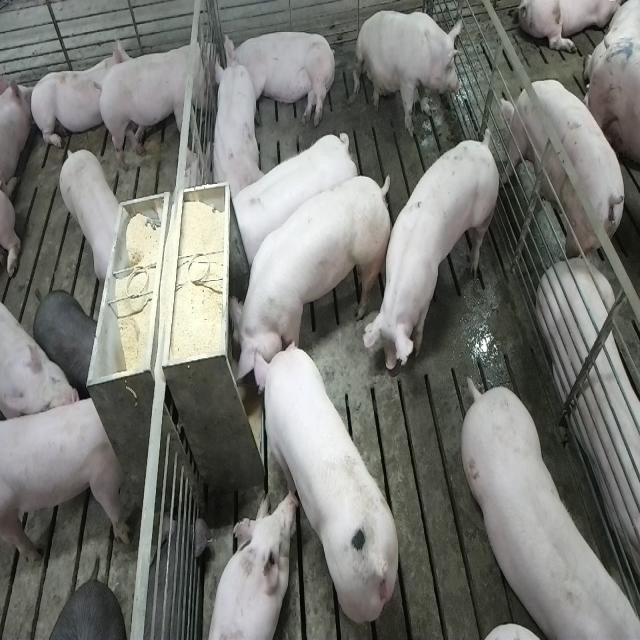Feeding: (250, 338, 400, 624), (223, 173, 388, 398)
Lateral_lying: (539, 256, 640, 602), (222, 29, 338, 129)
Sitting: (354, 8, 464, 138)
Standing: (458, 381, 634, 640), (368, 123, 504, 375), (504, 79, 632, 265), (1, 390, 130, 568), (230, 127, 358, 266), (97, 28, 218, 172), (56, 144, 126, 286), (33, 286, 99, 395)
Sternal_lying: (205, 490, 295, 640), (28, 33, 126, 155), (207, 46, 261, 200)
